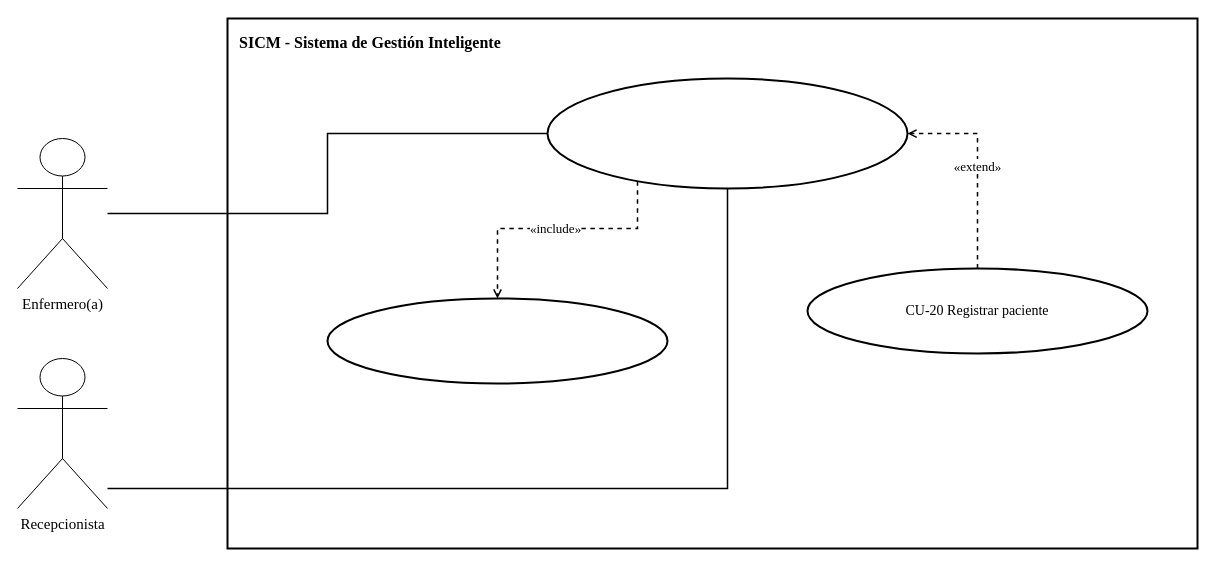
Image size: 1216x566. Some labels were removed from this diagram. The box of each missing label's shape, as (x1, y1, x2, y2) in pixels:
Buscar paciente por cédula: (546, 77, 908, 189)
Validar formato de cédula: (326, 297, 668, 384)
